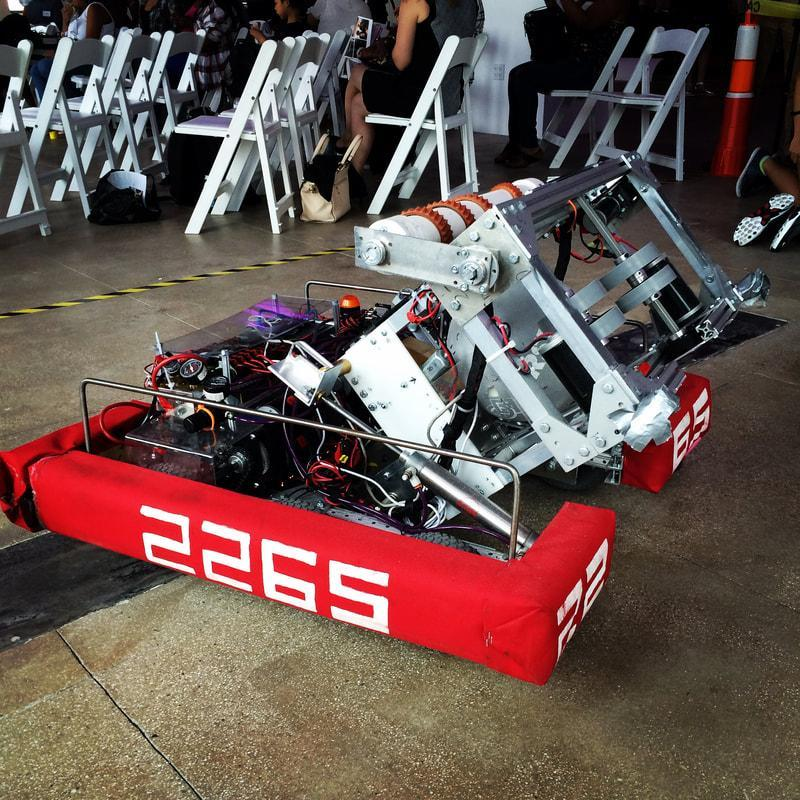robot: (0, 146, 774, 720)
